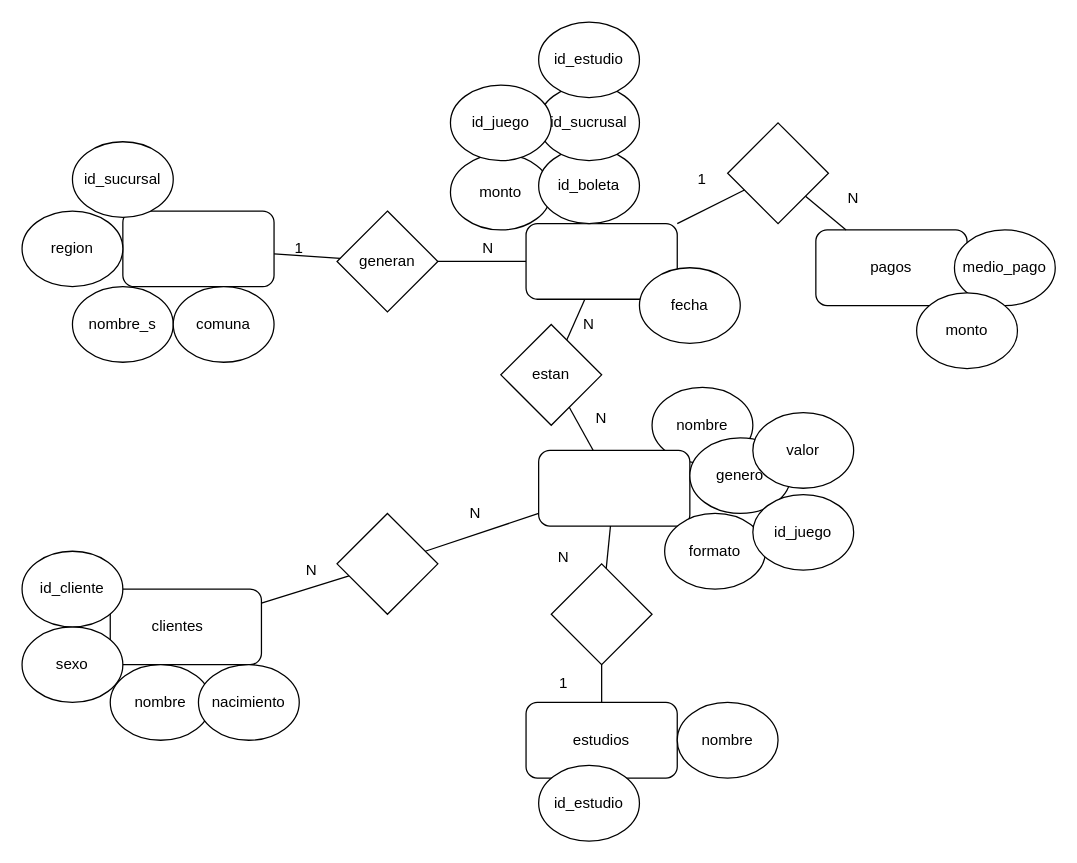
Some shapes in this 1077 by 863 pixel diagram are drawn without their labels. Each missing label, with the centre of its shape:
"boletas" goes at [601,260].
"cancela" goes at [777,173].
"compra" goes at [387,563].
"crean" goes at [601,614].
"sucursales" goes at [198,248].
"videojuegos" goes at [613,487].
